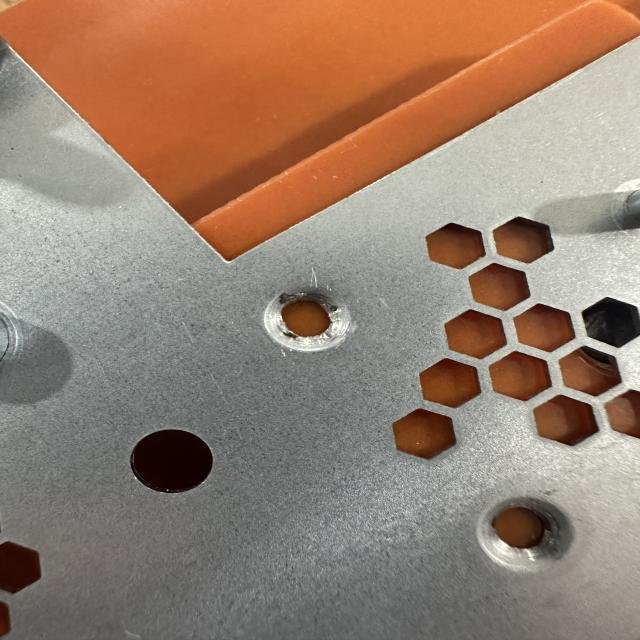Missing screw: (254, 282, 365, 361)
